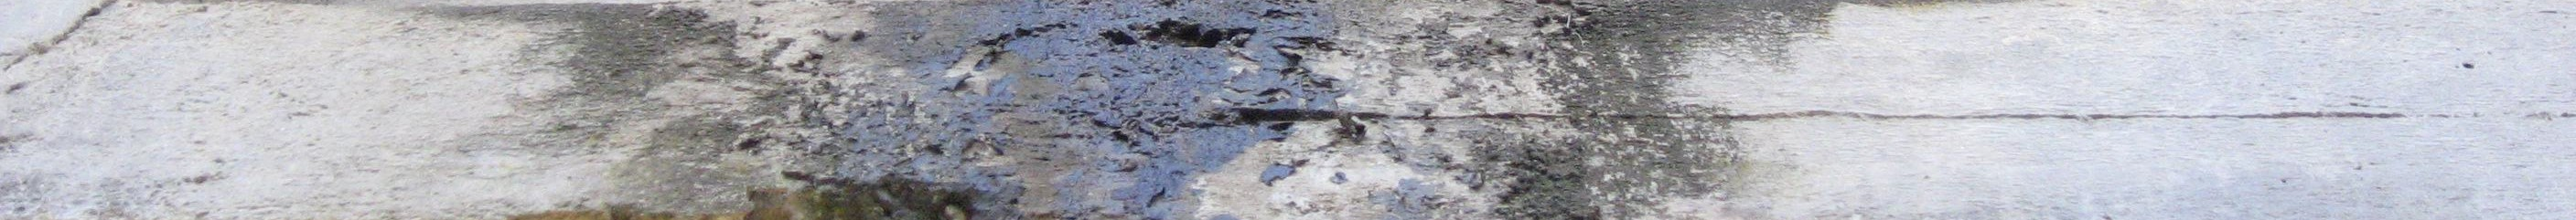Corrosion: (519, 2, 1840, 220)
